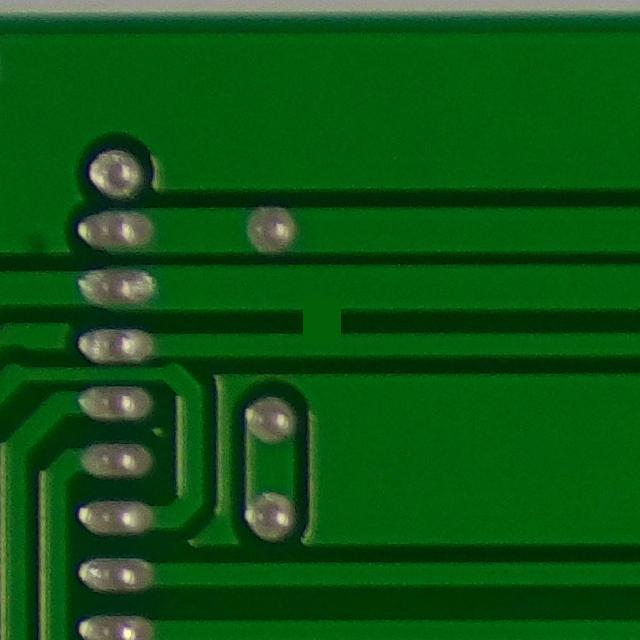short: (265, 274, 375, 366)
